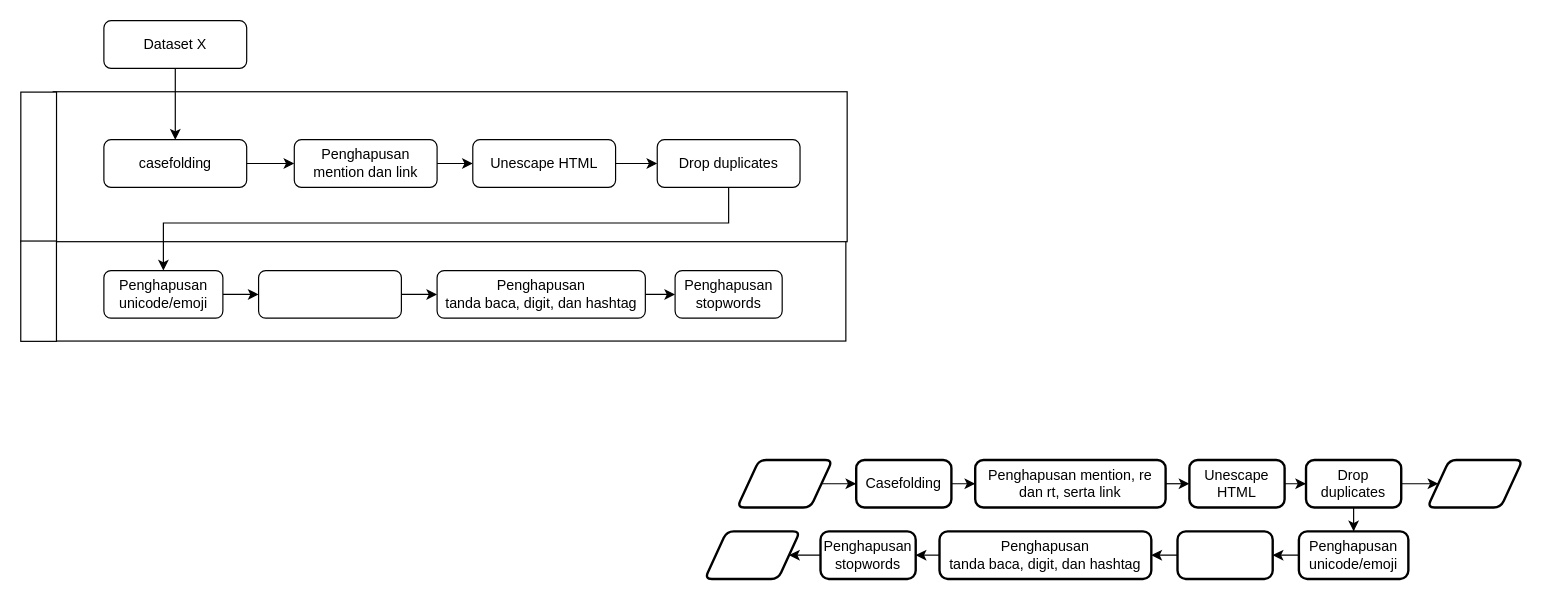
Image size: 1545x601. Some labels were removed from this diagram. Each missing label, with the centre of its shape:
Data Twit Bersih 1: pixel 1474 483
Data Twit Bersih 2: pixel 752 555
Dataset Twit: pixel 784 483
Deteksi Buzzer & Klasifikasi Sentimen: pixel 38 166
Replace kamus alay: pixel 1224 555
Replace kamus alay dan gaul: pixel 329 293
Topic Modeling: pixel 38 290
